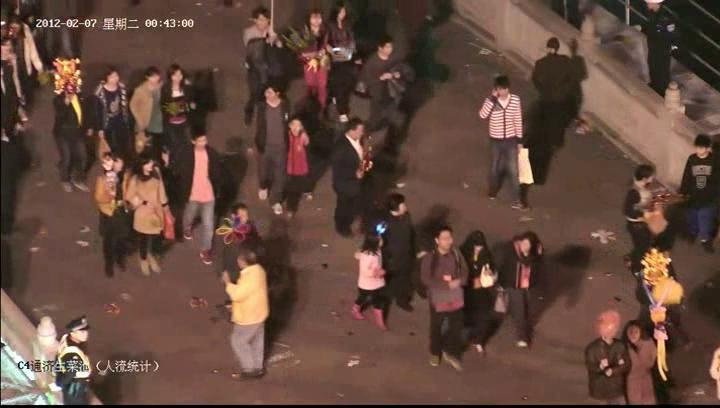person: (476, 76, 533, 211), (423, 228, 474, 373), (221, 250, 276, 382), (236, 4, 293, 121), (521, 37, 581, 148), (327, 108, 378, 233), (176, 128, 221, 267), (92, 144, 137, 279), (496, 231, 547, 348), (48, 71, 96, 195), (456, 231, 501, 361), (620, 164, 668, 285), (251, 82, 293, 220), (376, 193, 424, 310), (294, 0, 336, 130), (676, 131, 720, 252), (128, 156, 172, 276), (361, 37, 412, 139), (348, 226, 396, 333), (51, 312, 103, 408), (584, 313, 634, 408), (325, 0, 362, 122), (623, 318, 667, 408), (281, 115, 316, 220), (8, 13, 43, 93), (0, 39, 26, 141)
